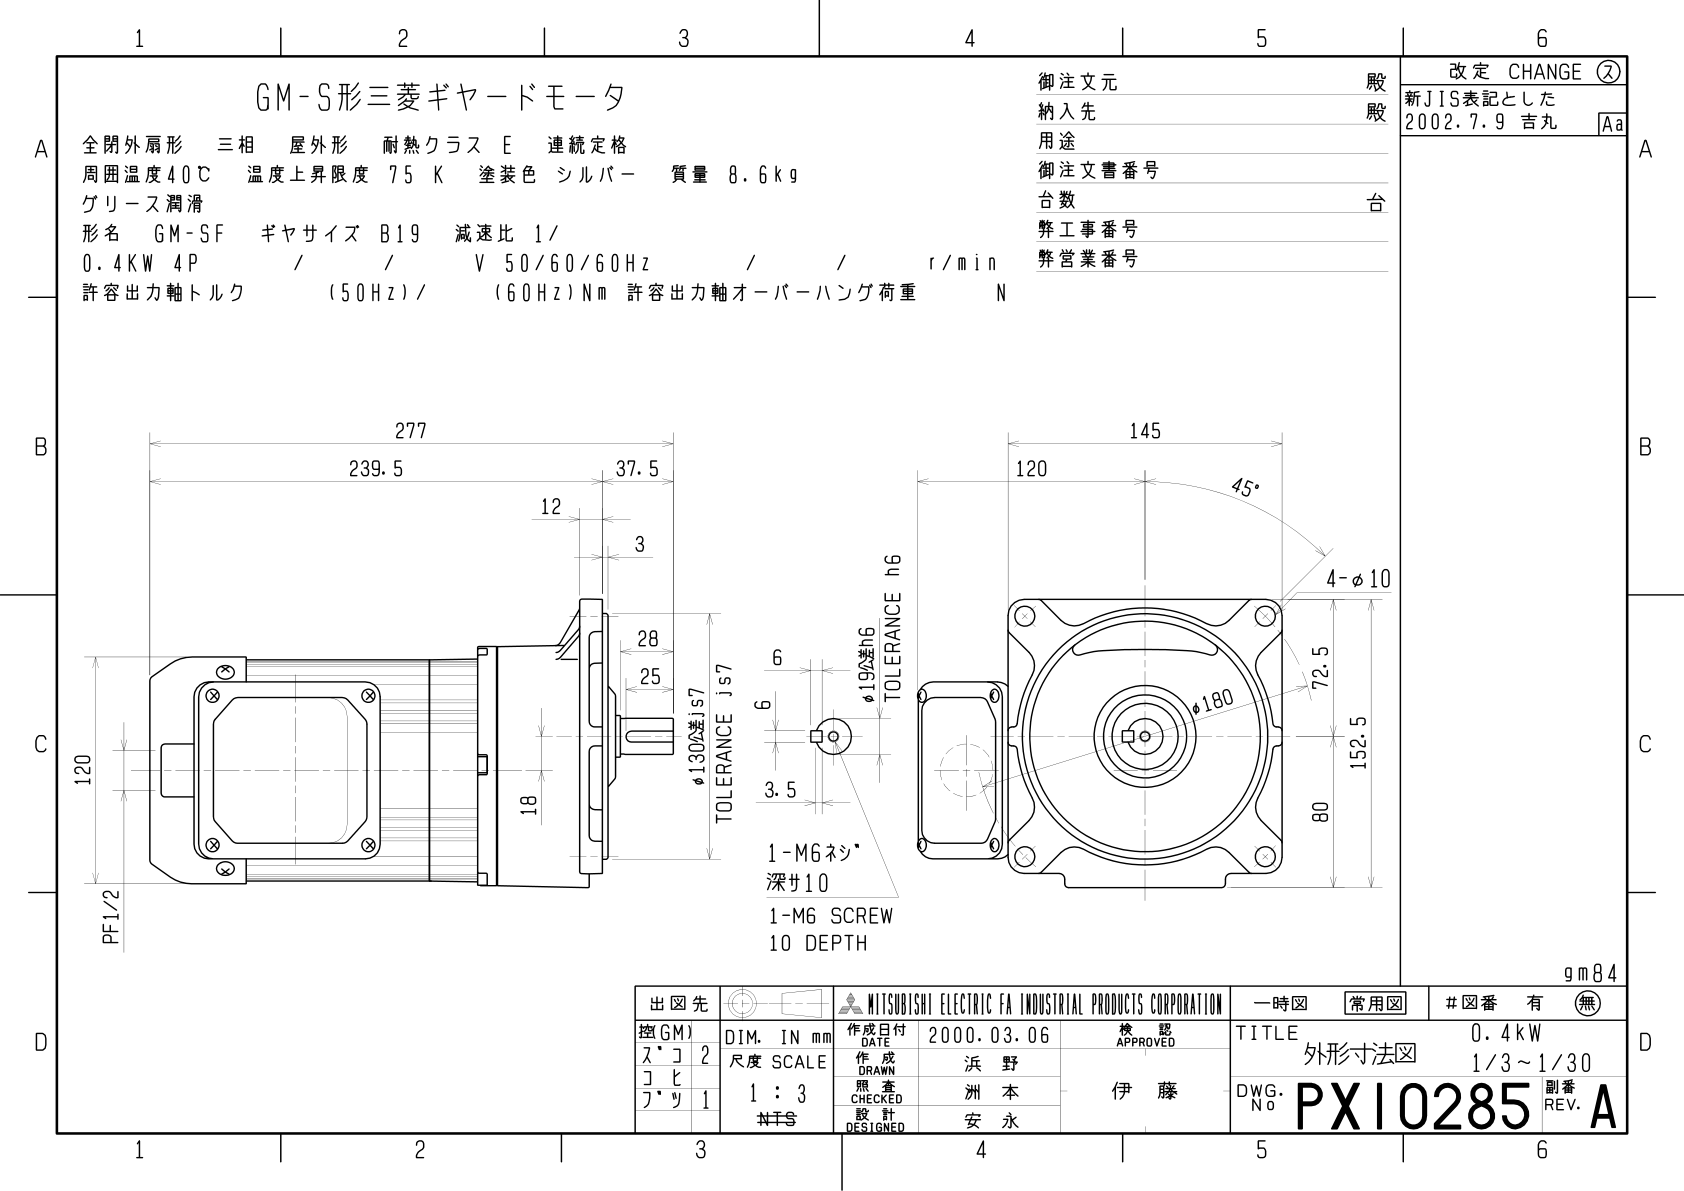GM_S_屋外＿三相_フランジ: (67, 398, 1397, 965)
